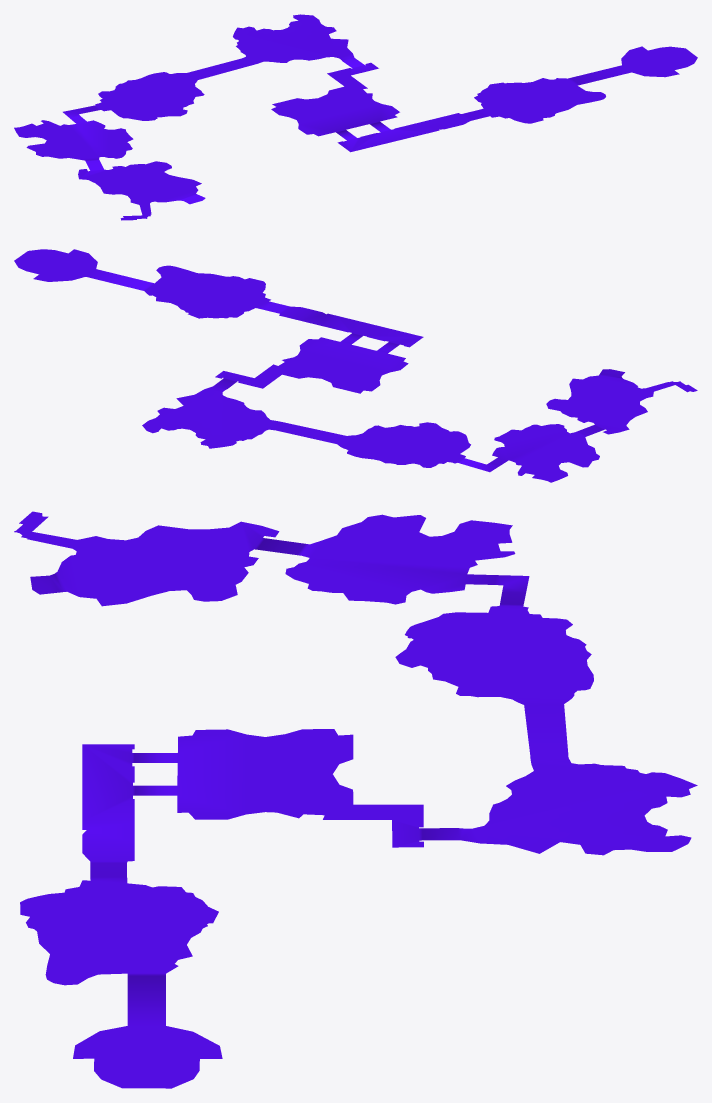
File: Mld_navigation_01.FBX
3 views of the same model, one above another, from view 1: azimuth 30°, elevation 25°; view 2: azimuth 150°, elevation 25°; view 3: azimuth 270°, elevation 25° (orthographic). The views are drawn at different scales.
Visible parts, largest first — view 1: Mld_navigation_01; view 2: Mld_navigation_01; view 3: Mld_navigation_01.
Boxes of the visible parts, x1,y1,x2,y2 form: Mld_navigation_01: [14, 14, 697, 220]; Mld_navigation_01: [14, 249, 697, 482]; Mld_navigation_01: [14, 511, 697, 1088].
Size of the model in its own units: 10334 by 0.00917 by 5176.
